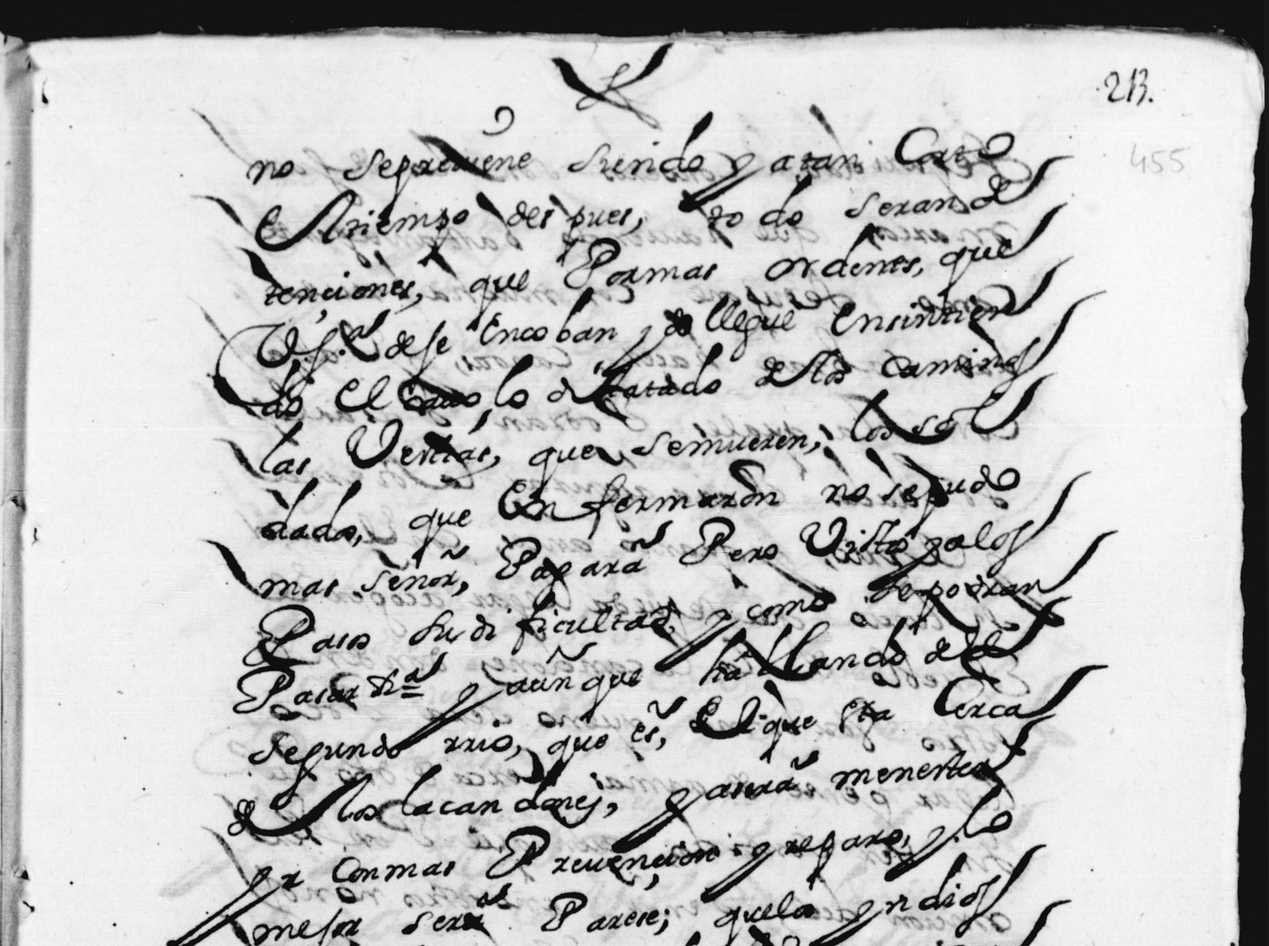lacandon: (402, 757, 602, 828)
